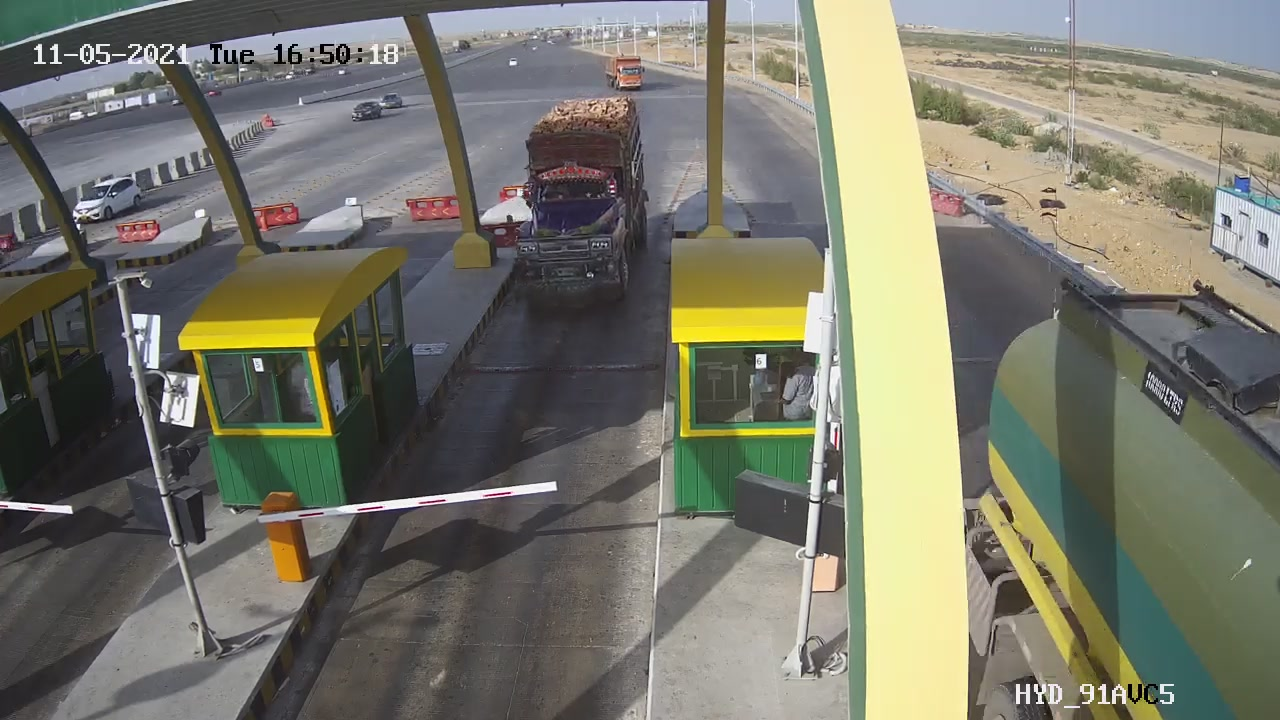F5: (485, 82, 671, 329)
